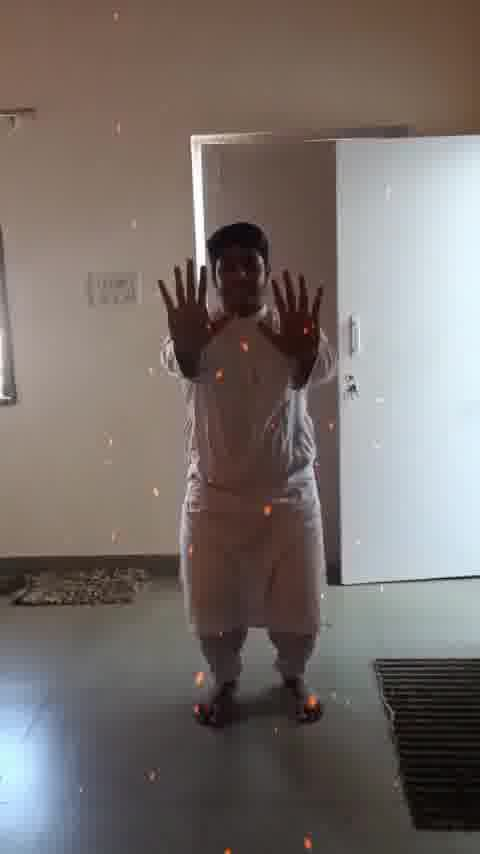duck: (137, 213, 368, 721)
